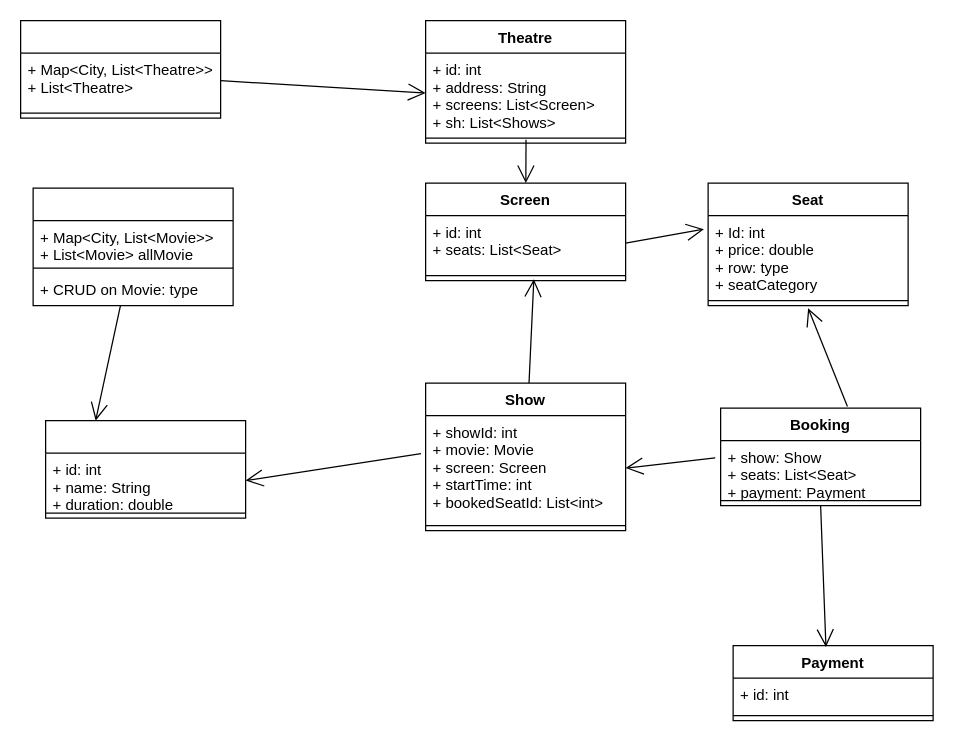
Some shapes in this 954 by 741 pixel diagram are drawn without their labels. The shapes that lost their labels are listed below. From the top down, each one's box as (x1, y1, x2, y2) in pixels, then its label:
(19, 19, 221, 118): TheatreController
(32, 187, 233, 306): MovieController
(44, 419, 246, 518): Movie
